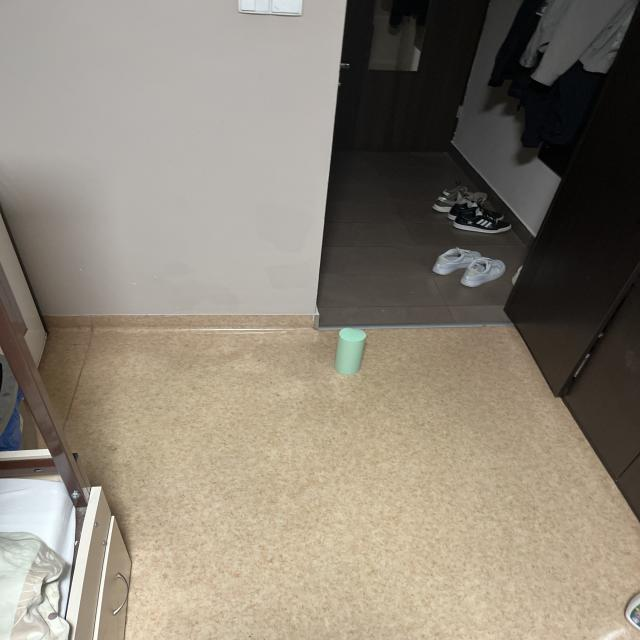meta: (335, 328, 366, 375)
